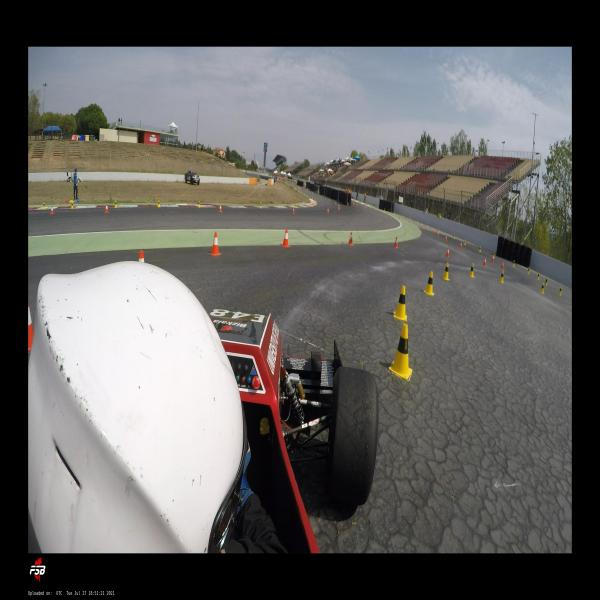orange_cone: (28, 299, 34, 351), (210, 232, 221, 256), (282, 229, 290, 247), (347, 231, 353, 246), (138, 250, 144, 263), (445, 247, 450, 258), (50, 205, 55, 215), (394, 236, 398, 248), (218, 204, 222, 213), (104, 204, 108, 213), (482, 257, 486, 266), (157, 200, 161, 208), (500, 261, 504, 269), (444, 234, 447, 242), (491, 254, 494, 262), (459, 242, 462, 249), (292, 207, 295, 214), (436, 230, 439, 236), (326, 207, 329, 213), (346, 202, 349, 207), (294, 203, 296, 209), (338, 205, 340, 211), (156, 193, 158, 198), (432, 228, 434, 233), (426, 224, 428, 228)
yellow_cone: (388, 324, 413, 380), (392, 286, 408, 322), (423, 271, 434, 296), (441, 262, 450, 281), (468, 262, 475, 278), (498, 270, 504, 284), (104, 203, 109, 214), (540, 282, 544, 294), (558, 286, 562, 296), (544, 277, 548, 286), (70, 200, 74, 209), (526, 266, 530, 274), (511, 260, 515, 268), (114, 200, 118, 208), (536, 272, 540, 280), (157, 200, 161, 207), (492, 250, 495, 258), (43, 202, 46, 210), (197, 200, 200, 208), (259, 202, 262, 209), (452, 234, 455, 239), (464, 239, 466, 245), (479, 246, 481, 252), (294, 203, 296, 208)
